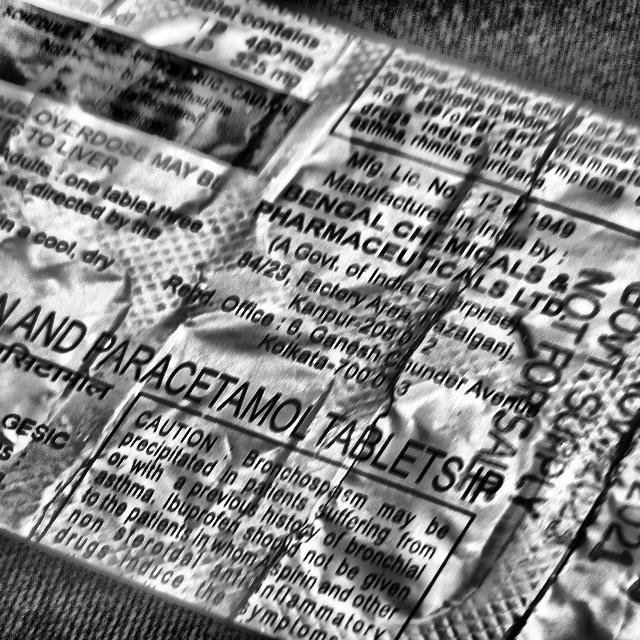IBUPROFEN AND PARACETAMOL TABLETS: (0, 266, 501, 515)
